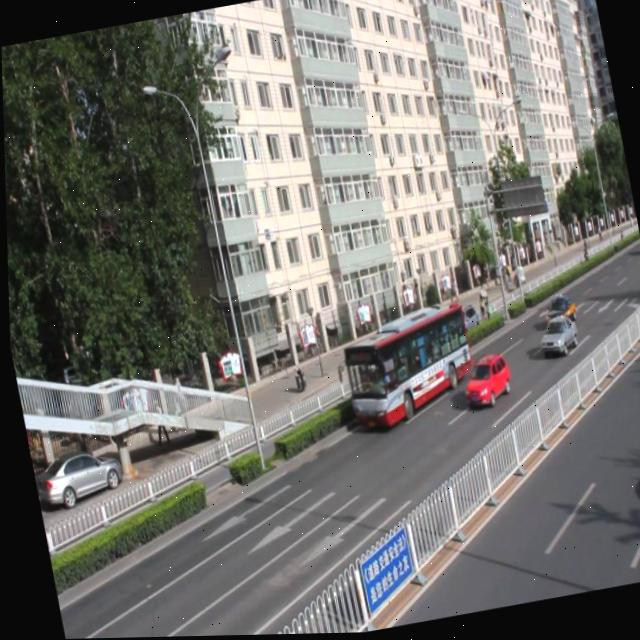car: (456, 352, 510, 408), (533, 313, 579, 360), (539, 293, 576, 330), (447, 302, 479, 337)
van: (335, 302, 478, 434)
